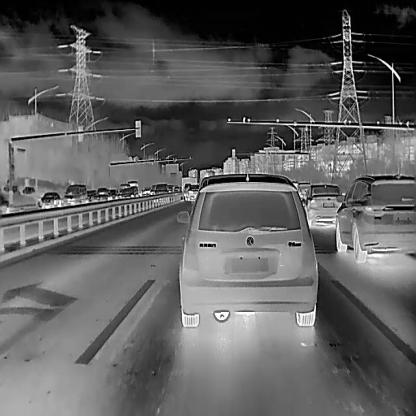car: (177, 173, 317, 327), (335, 174, 415, 261), (303, 183, 342, 227), (63, 184, 87, 206), (39, 191, 61, 208), (185, 184, 200, 200), (121, 186, 138, 198), (154, 182, 167, 194), (96, 186, 106, 200), (108, 188, 118, 202), (86, 190, 96, 202), (127, 180, 138, 187), (119, 182, 130, 188)
